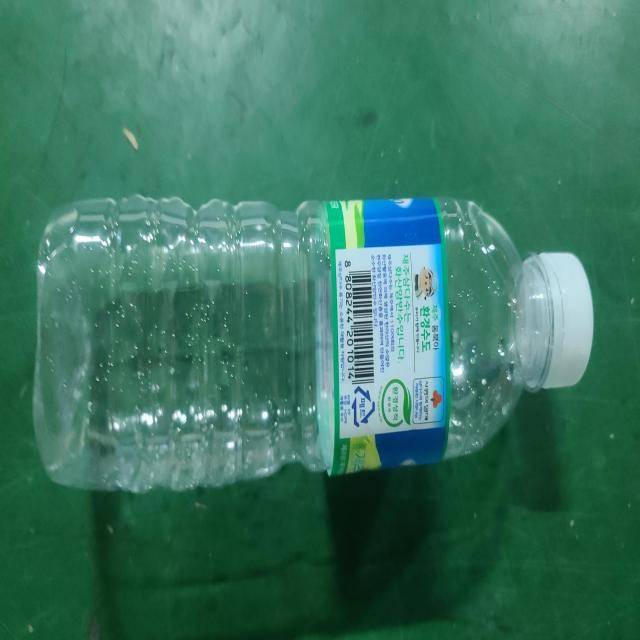plastic: (33, 194, 594, 492)
